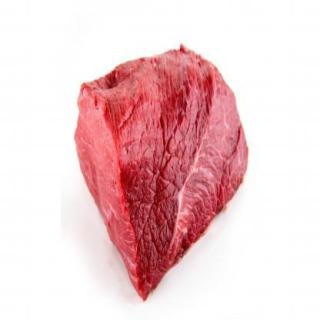Daging Sapi: (77, 46, 250, 295)
